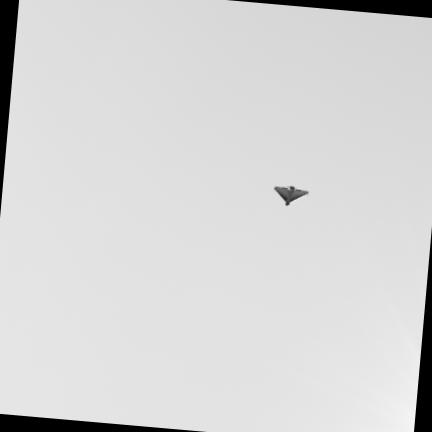Shahed: (274, 187, 307, 206)
